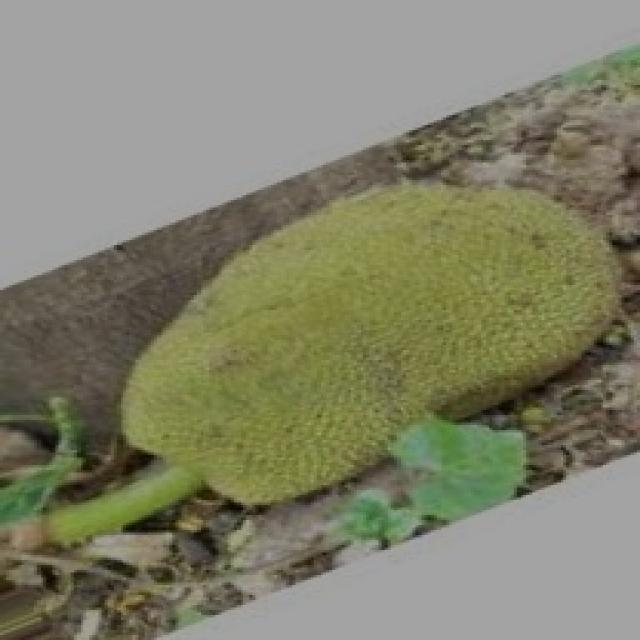Fruit: (243, 135, 640, 470)
